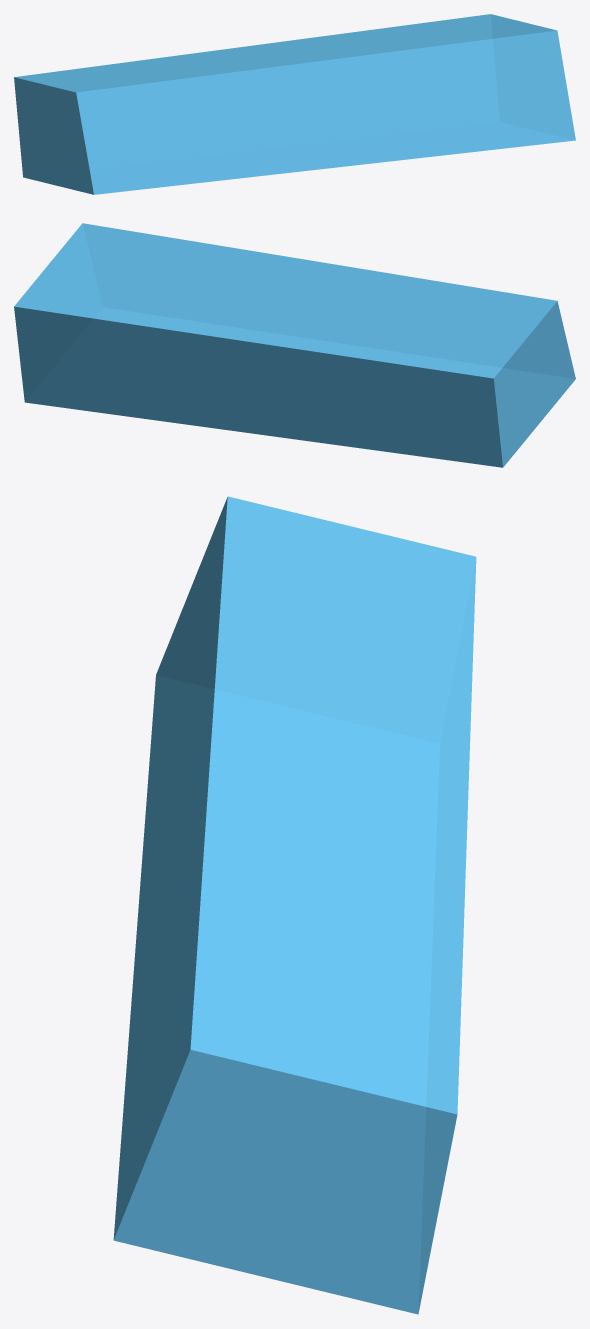
File: Event_421556567_HErechit_64.fbx
The picture shows the model from 3 angles, top to bottom: view 1: azimuth 30°, elevation 25°; view 2: azimuth 150°, elevation 25°; view 3: azimuth 270°, elevation 25°; orthographic projection. The views are drawn at different scales.
Parts seen in each view (by area): view 1: Model; view 2: Model; view 3: Model.
Boxes of the visible parts, bbox=[...] form: Model: bbox=[14, 14, 575, 194]; Model: bbox=[14, 223, 575, 467]; Model: bbox=[113, 496, 476, 1314].
Size of the model in its own units: 0.7836 by 0.2842 by 0.2608.
